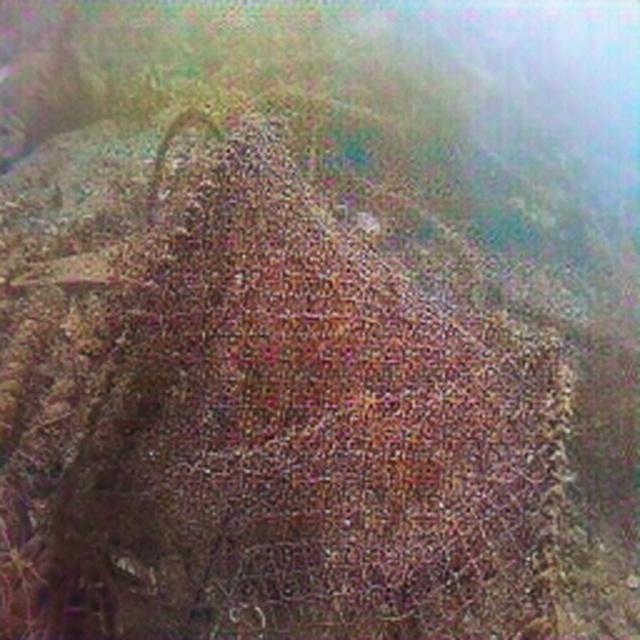mine: (45, 105, 575, 640)
